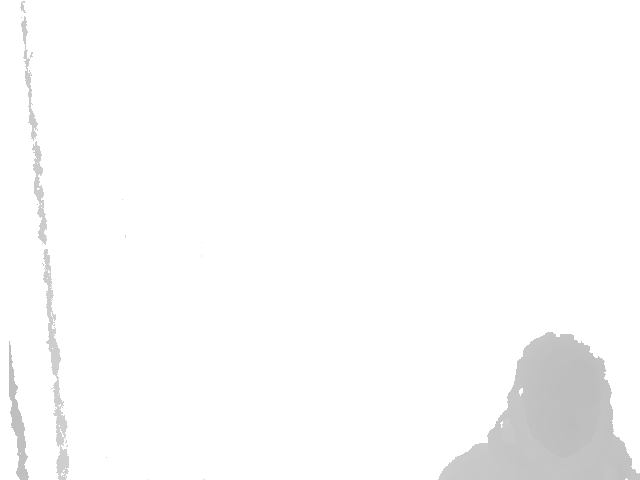head: (525, 332, 603, 460)
person: (438, 332, 640, 480)
